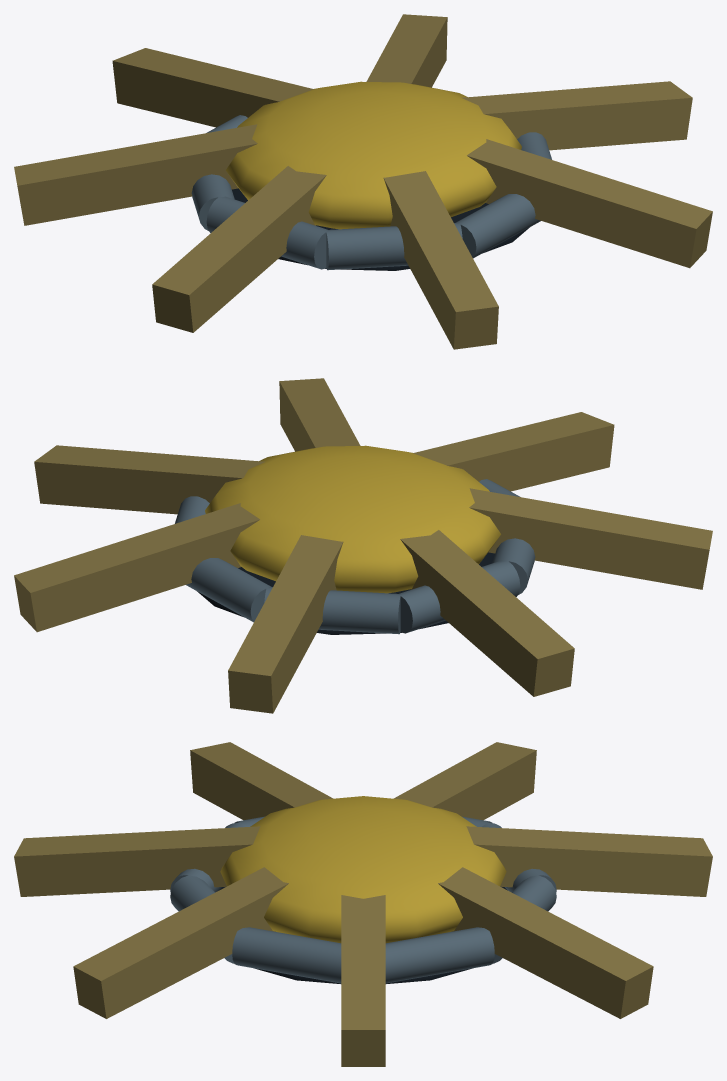
Rendered from CMU3DHiveXenoTrapperTrap.glb.
The picture shows the model from 3 angles, top to bottom: view 1: azimuth 30°, elevation 25°; view 2: azimuth 150°, elevation 25°; view 3: azimuth 270°, elevation 25°; orthographic projection.
Parts seen in each view (by area): view 1: anchoring root (×7), acid reservoir, continuous fleshy rim (×5), recessed dark entrance; view 2: anchoring root (×7), acid reservoir, continuous fleshy rim (×5), recessed dark entrance; view 3: anchoring root (×7), acid reservoir, continuous fleshy rim (×4), recessed dark entrance.
Part boxes in pixels (x1=…): anchoring root (×7): x1=14, y1=14, x2=712, y2=349; acid reservoir: x1=226, y1=81, x2=521, y2=229; continuous fleshy rim (×5): x1=191, y1=132, x2=551, y2=270; recessed dark entrance: x1=232, y1=188, x2=529, y2=270; anchoring root (×7): x1=14, y1=378, x2=712, y2=713; acid reservoir: x1=205, y1=445, x2=500, y2=593; continuous fleshy rim (×5): x1=175, y1=496, x2=535, y2=634; recessed dark entrance: x1=197, y1=552, x2=494, y2=634; anchoring root (×7): x1=14, y1=742, x2=712, y2=1066; acid reservoir: x1=220, y1=796, x2=506, y2=943; continuous fleshy rim (×4): x1=170, y1=875, x2=556, y2=983; recessed dark entrance: x1=219, y1=887, x2=507, y2=983.
Bounding box in the file's own units: 0.8569 × 0.135 × 0.8789.
